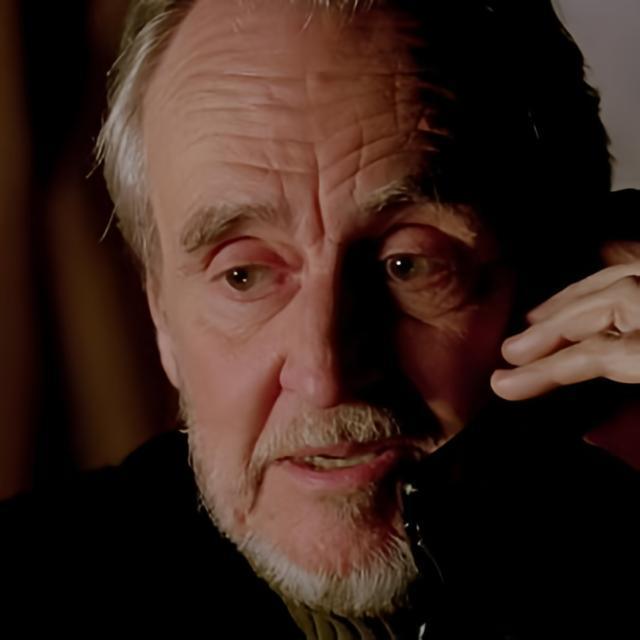surprise: (146, 3, 523, 616)
